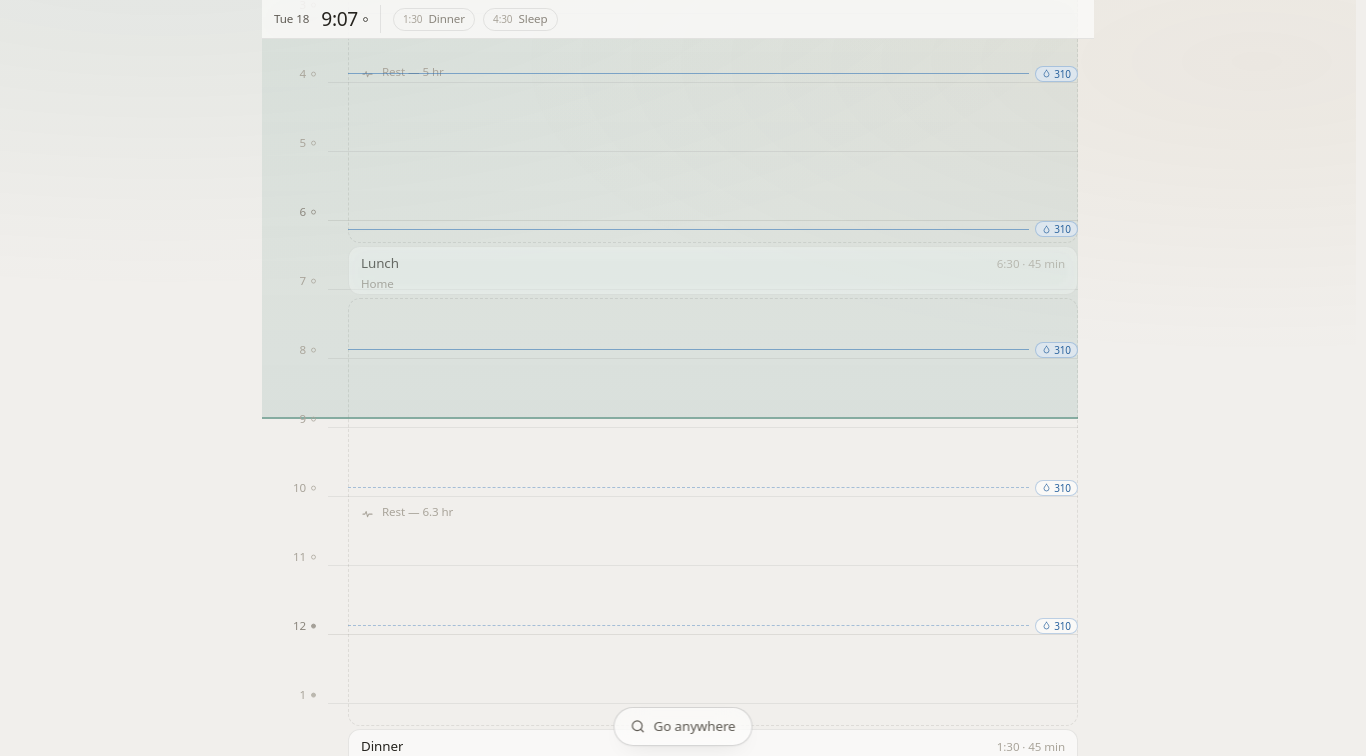
Scenario: every page is reachable › suggests nearby days before anything is typed
(page scrolled)
Click the button "Go anywhere".
click(683, 726)  # box x1=614 y1=707 x2=753 y2=746
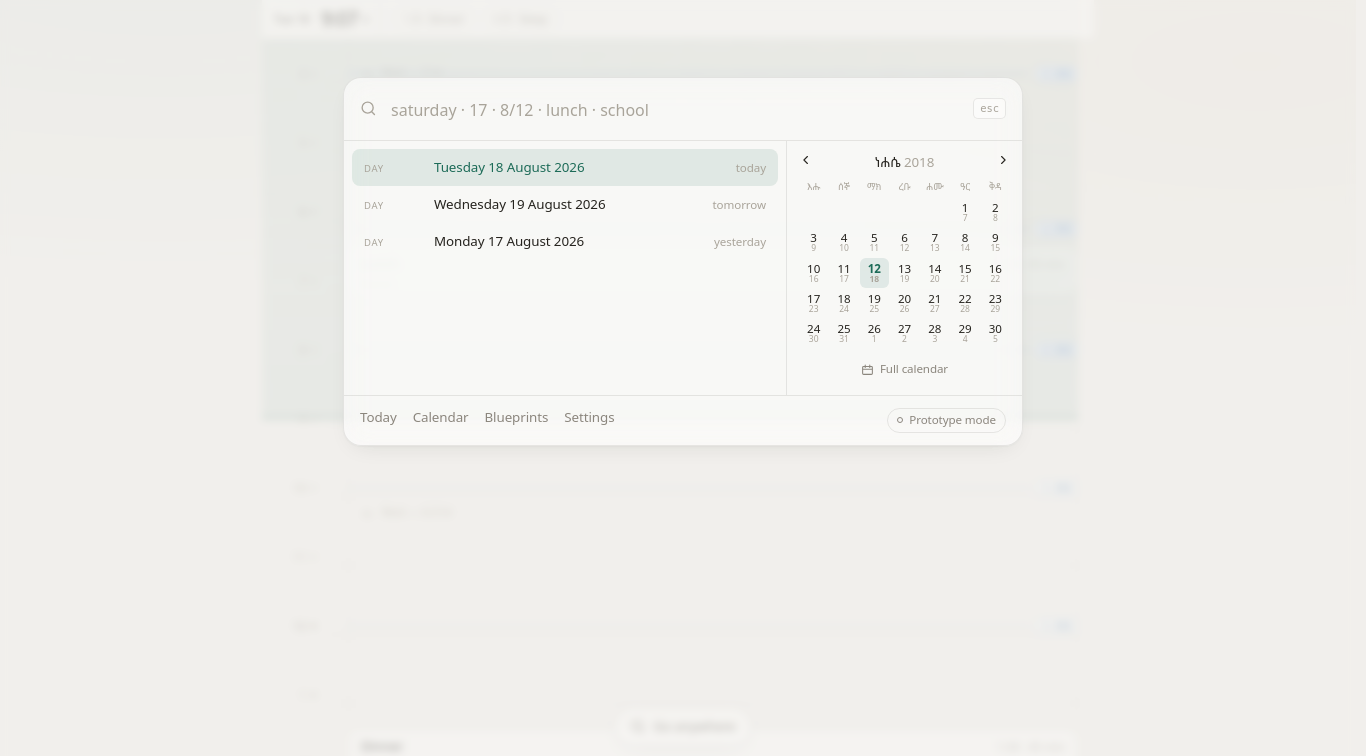
expect the link with class "go-hit" shows "today": met, box x1=352 y1=149 x2=778 y2=186
